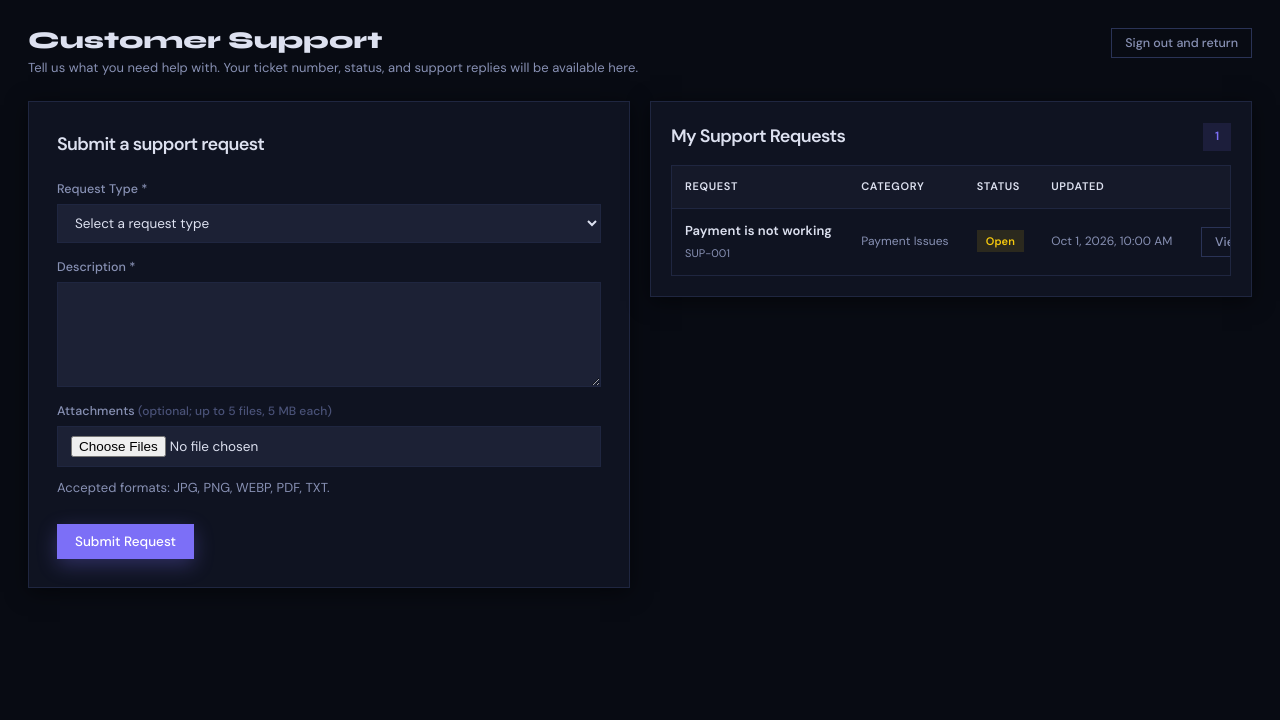
Test case: React Customer Support › closes the conversation with Escape and clears the session on sign-out
This screenshot has width=1280, height=720.
Step 1. Click the button "View" → (1229, 242), box [1201,227,1258,257]
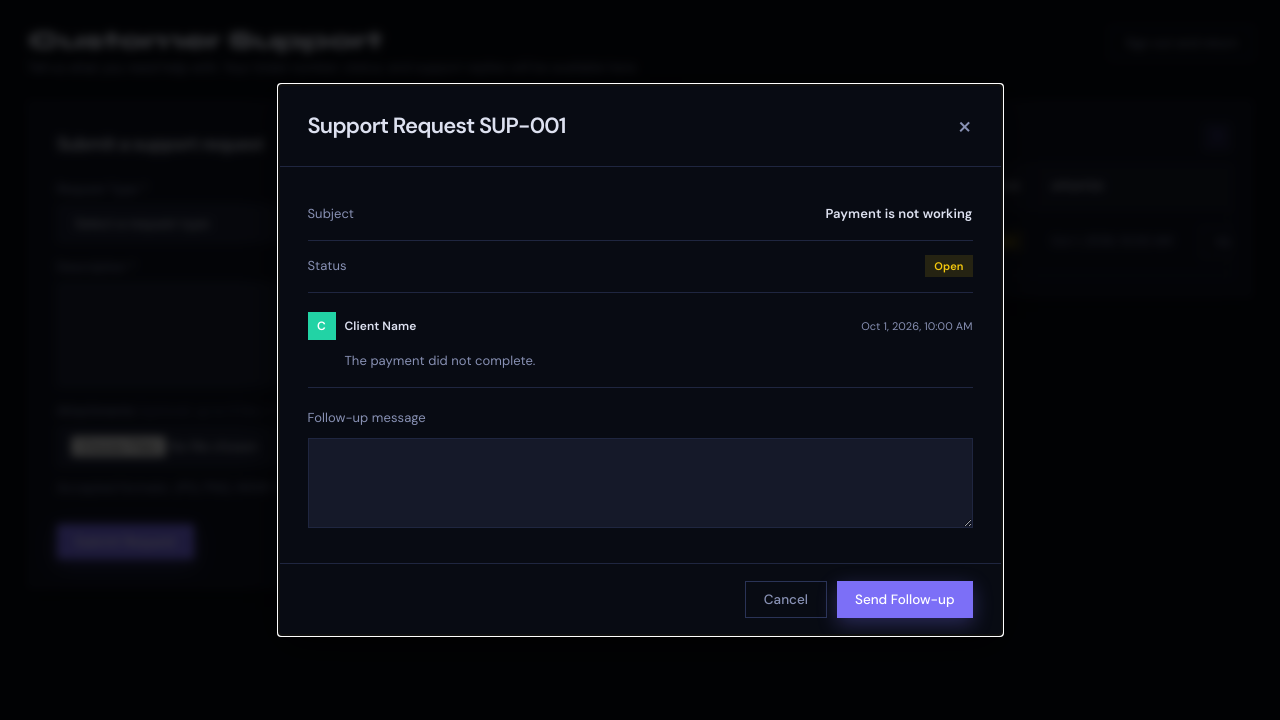
Step 2. Press Escape in the dialog, box [278,84,1002,636]
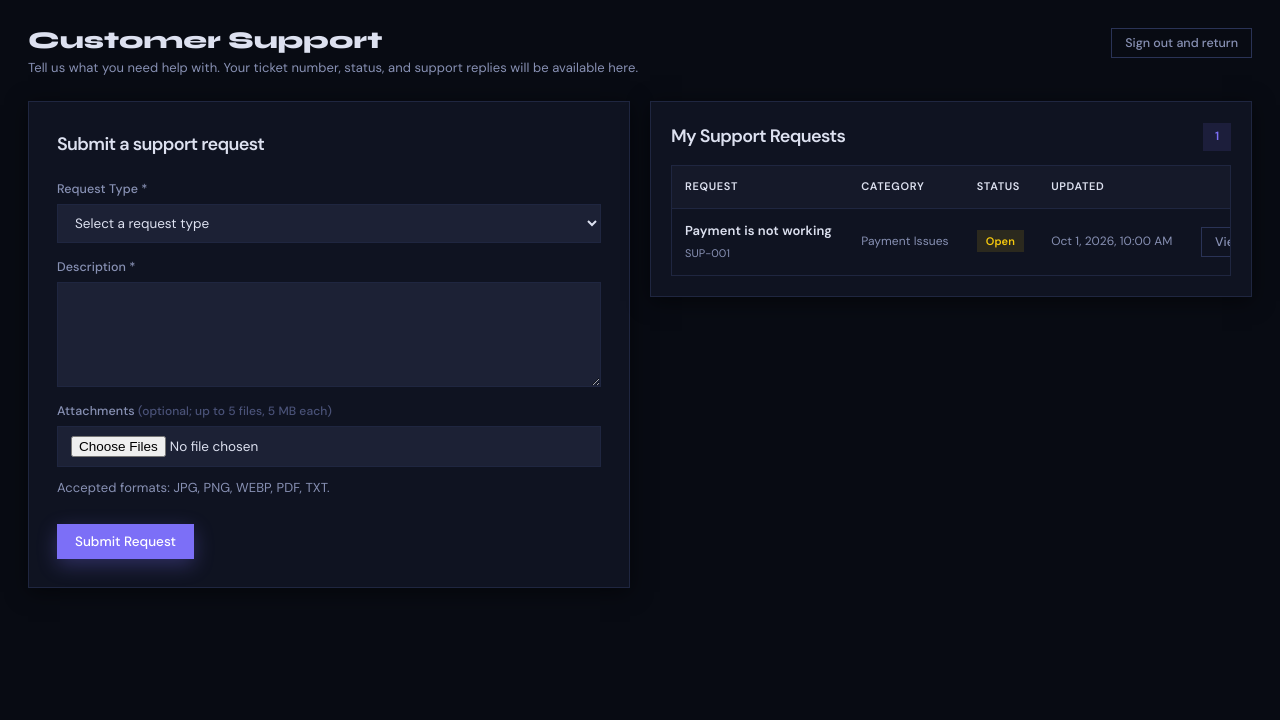
Expected: the dialog is gone
Step 3. Click the button "Sign out and return" → (1182, 43), box [1111,28,1252,58]
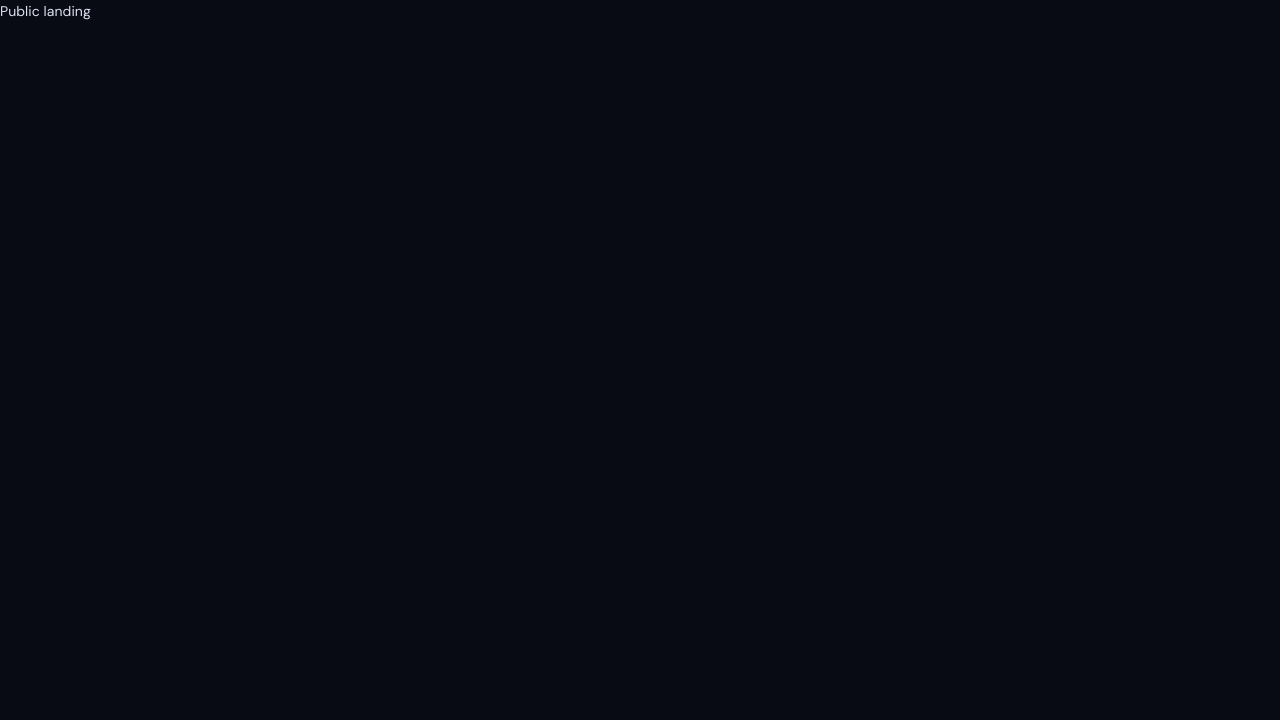
Expected: the text "Public landing" is shown, [0,2,91,20]
